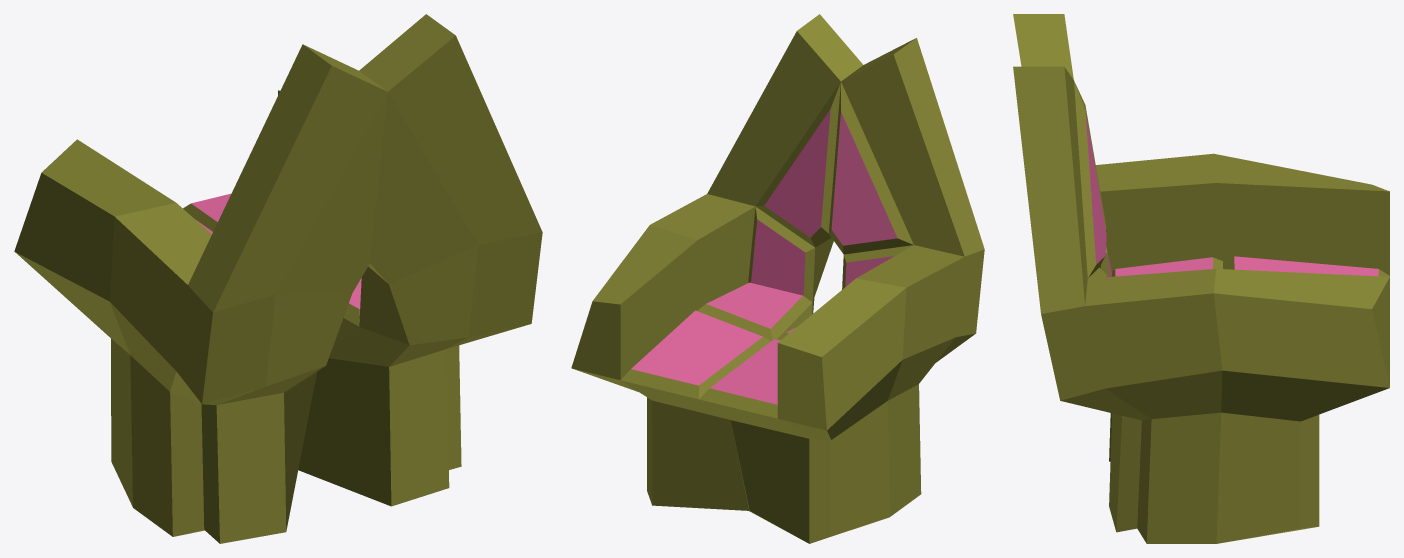
Rendered from Capt Chair.fbx.
3 renders of one model, left to right at view 1: azimuth 30°, elevation 25°; view 2: azimuth 150°, elevation 25°; view 3: azimuth 270°, elevation 25°, orthographic. The views are drawn at different scales.
Visible parts, largest first — view 1: Capt Chair; view 2: Capt Chair; view 3: Capt Chair.
Boxes of the visible parts, left/top/right/bottom form: Capt Chair: left=14, top=14, right=542, bottom=543; Capt Chair: left=571, top=14, right=984, bottom=543; Capt Chair: left=1013, top=14, right=1389, bottom=543.
Bounding box in the file's own units: 200 × 295 × 227.
